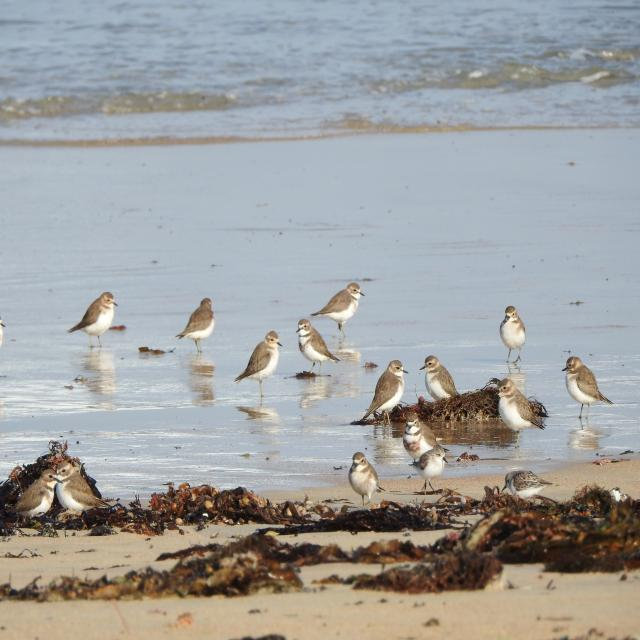bird: (299, 280, 370, 346), (490, 377, 550, 455), (234, 329, 287, 407), (352, 362, 409, 432), (561, 357, 613, 428), (68, 292, 122, 354), (407, 435, 453, 495), (175, 298, 219, 356), (297, 321, 345, 373), (420, 356, 462, 409), (346, 452, 384, 506), (500, 307, 529, 375)
